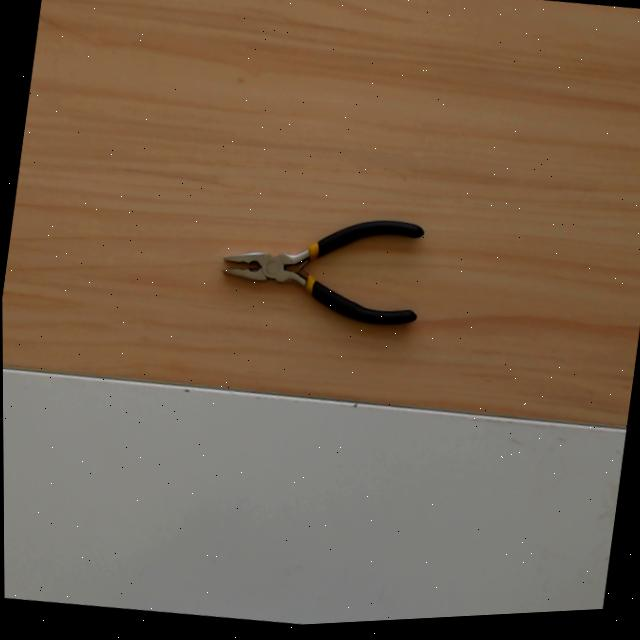Tang-Jepit-Hitam: (220, 207, 426, 327)
